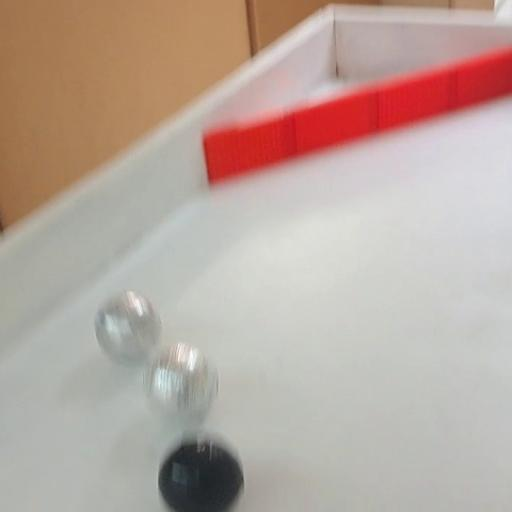alive: (144, 343, 222, 429), (92, 289, 165, 369)
dead: (156, 433, 246, 511)
